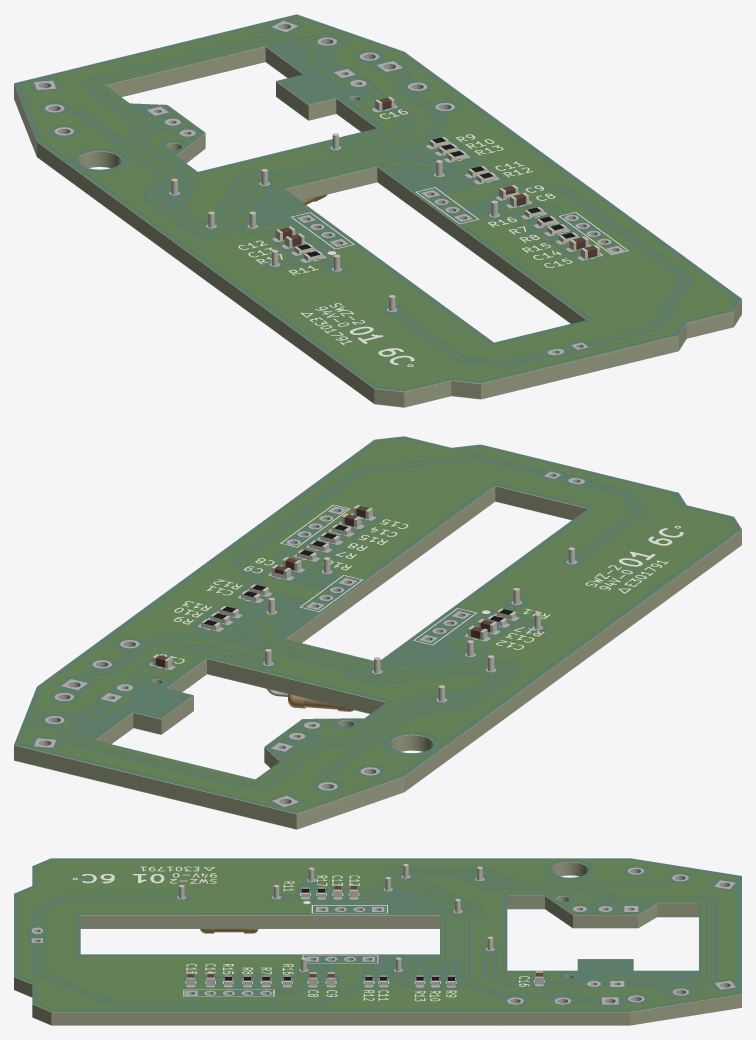
Rendered from board.glb.
3 views of the same model, one above another, from view 1: azimuth 30°, elevation 25°; view 2: azimuth 150°, elevation 25°; view 3: azimuth 270°, elevation 25° (orthographic). The views are drawn at different scales.
Visible parts, largest first — view 1: board_soldermask (×2), board_copper, board_PCB, board_pad, board_silkscreen; view 2: board_soldermask (×2), board_copper, board_PCB, board_pad, board_silkscreen, R_Axial_DIN0207_L63mm_D25mm_P1016mm_Horizontal; view 3: board_soldermask (×2), board_copper, board_PCB, board_pad, board_silkscreen, R_Axial_DIN0207_L63mm_D25mm_P1016mm_Horizontal.
Part boxes in pixels (<box>): board_soldermask (×2): <box>14,14,741,407</box>; board_copper: <box>21,18,734,388</box>; board_PCB: <box>14,15,741,406</box>; board_pad: <box>34,21,624,355</box>; board_silkscreen: <box>238,109,628,366</box>; board_soldermask (×2): <box>14,436,741,829</box>; board_copper: <box>21,439,734,810</box>; board_PCB: <box>14,437,741,828</box>; board_pad: <box>34,471,584,807</box>; board_silkscreen: <box>157,504,683,668</box>; R_Axial_DIN0207_L63mm_D25mm_P1016mm_Horizontal: <box>265,649,380,711</box>; board_soldermask (×2): <box>14,858,741,1025</box>; board_copper: <box>19,861,736,1009</box>; board_PCB: <box>14,859,741,1024</box>; board_pad: <box>31,867,735,1004</box>; board_silkscreen: <box>72,866,544,1001</box>; R_Axial_DIN0207_L63mm_D25mm_P1016mm_Horizontal: <box>179,885,279,933</box>.
Size of the model in its own units: 0.039 by 0.0055 by 0.078.
